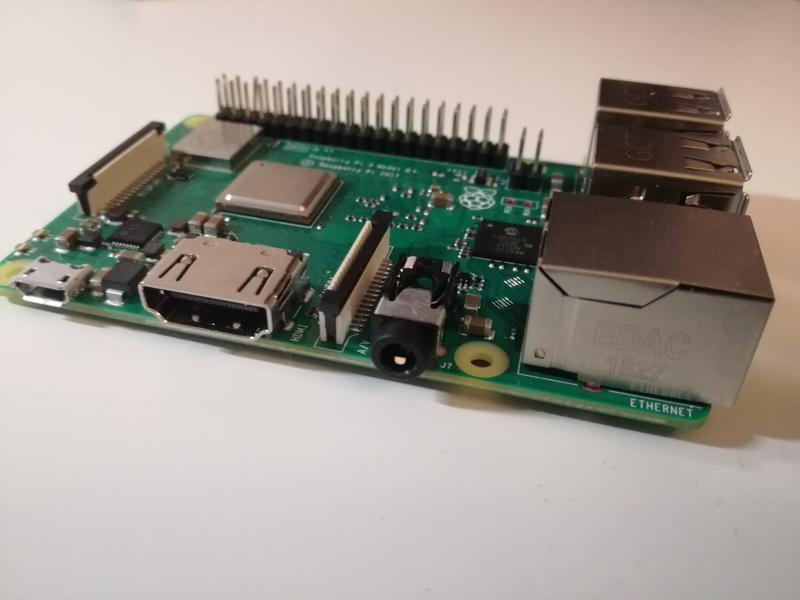Raspberry_Pi_3: (3, 59, 775, 434)
